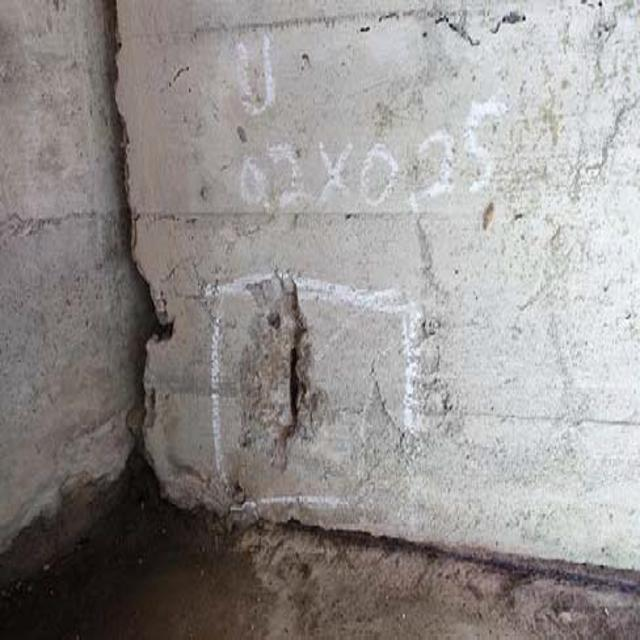spalling: (210, 270, 347, 477)
